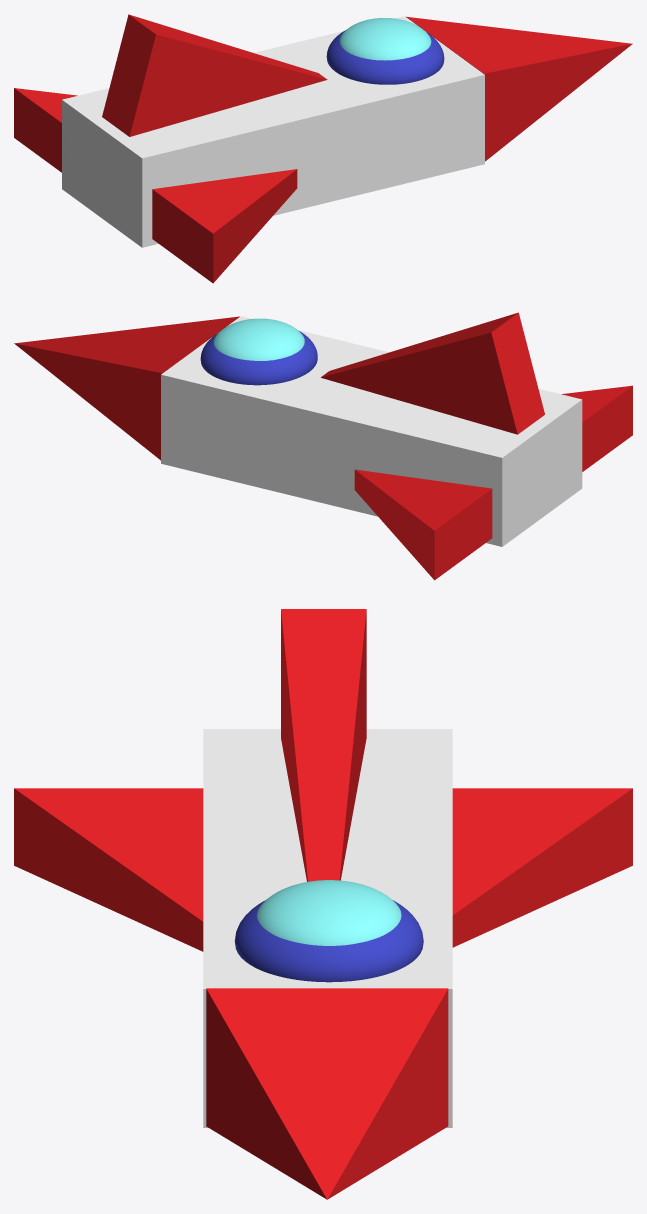
The model's file is Rocket.fbx.
The picture shows the model from 3 angles, top to bottom: view 1: azimuth 30°, elevation 25°; view 2: azimuth 150°, elevation 25°; view 3: azimuth 270°, elevation 25°; orthographic projection. The views are drawn at different scales.
Parts seen in each view (by area): view 1: node_id94 (×6); view 2: node_id94 (×6); view 3: node_id94 (×6).
Boxes of the visible parts, <box> form: node_id94 (×6): <box>14,14,632,283</box>; node_id94 (×6): <box>14,312,632,580</box>; node_id94 (×6): <box>14,609,632,1199</box>.
Bounding box in the file's own units: 0.3093 × 0.1033 × 0.2011.
7 materials, 6 textured.
